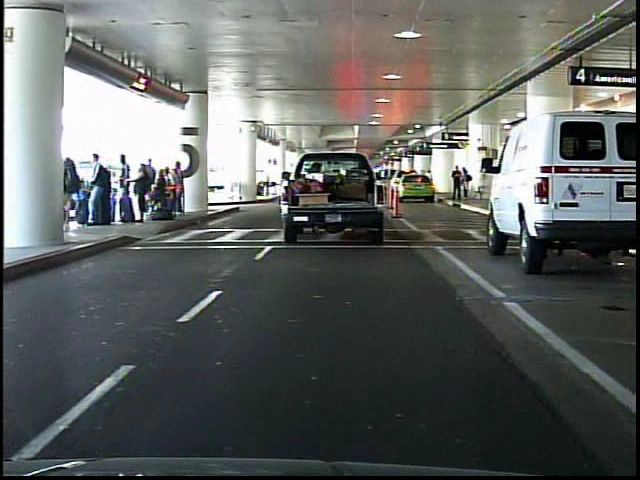person: (461, 165, 474, 203), (449, 165, 462, 202)
